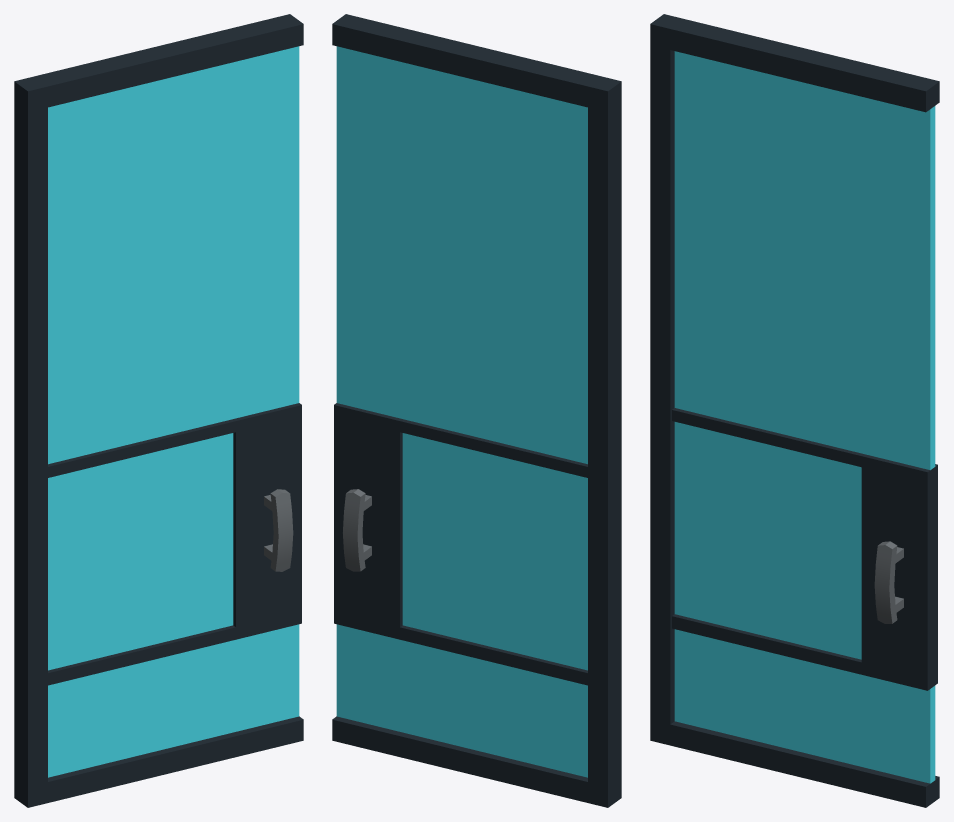
Rendered from SM_Buildings_Office_08_Door_L.fbx.
3 views of the same model, side by side, from view 1: azimuth 30°, elevation 25°; view 2: azimuth 150°, elevation 25°; view 3: azimuth 330°, elevation 25° (orthographic).
Parts seen in each view (by area): view 1: SM_Buildings_Office_08_Door_L; view 2: SM_Buildings_Office_08_Door_L; view 3: SM_Buildings_Office_08_Door_L.
Part boxes in pixels (x1,y1,x2,y2): SM_Buildings_Office_08_Door_L: (14, 14, 303, 807); SM_Buildings_Office_08_Door_L: (332, 14, 621, 807); SM_Buildings_Office_08_Door_L: (650, 14, 939, 807).
Size of the model in its own units: 1.08 by 2.68 by 0.2701.
